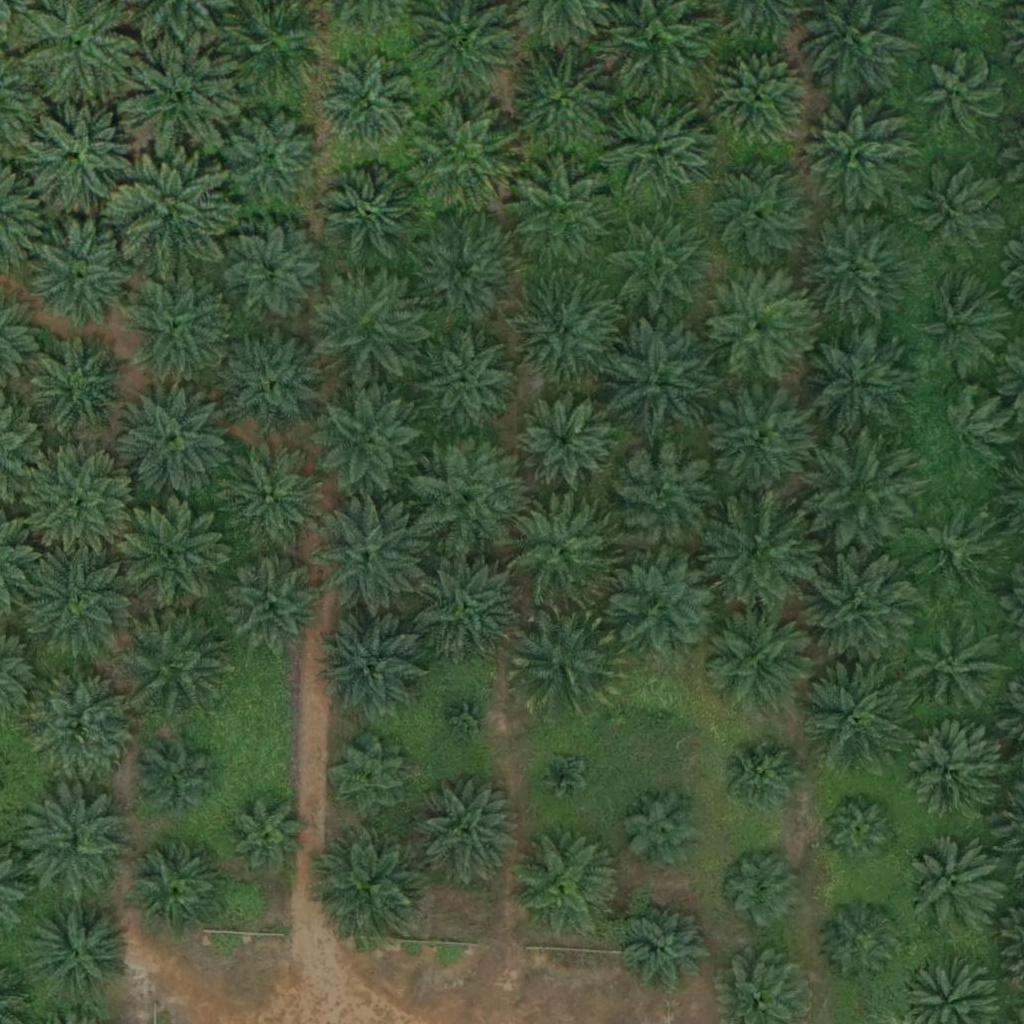Kelapa_Sawit: (507, 157, 620, 271), (799, 652, 912, 766), (702, 383, 815, 497), (699, 493, 812, 607), (600, 212, 713, 326), (602, 322, 715, 436), (510, 277, 623, 391), (24, 666, 137, 780), (121, 41, 234, 154), (115, 156, 228, 269), (506, 44, 619, 157), (799, 104, 912, 217), (704, 603, 817, 716), (606, 443, 719, 556), (314, 387, 427, 500), (314, 500, 427, 613), (317, 615, 430, 728), (212, 436, 325, 549), (28, 447, 141, 560), (22, 542, 135, 655), (18, 790, 131, 903), (22, 894, 135, 1007), (317, 828, 430, 941), (410, 106, 522, 220), (803, 433, 915, 547), (805, 550, 917, 664), (509, 828, 621, 942), (508, 604, 620, 717), (24, 94, 136, 207), (406, 215, 518, 328), (604, 98, 716, 211), (703, 155, 815, 268), (802, 212, 914, 325), (801, 327, 913, 440), (701, 270, 813, 383), (611, 550, 723, 663), (506, 494, 618, 607), (406, 440, 518, 553), (410, 547, 522, 660), (309, 269, 421, 382), (121, 273, 233, 386), (118, 384, 230, 497), (123, 496, 235, 609), (122, 603, 234, 716), (28, 218, 140, 331), (410, 778, 522, 891), (221, 106, 321, 207), (223, 225, 323, 326), (323, 167, 423, 268), (708, 46, 808, 147), (911, 273, 1011, 374), (515, 391, 615, 492), (417, 332, 517, 433), (223, 329, 323, 430), (224, 556, 324, 657), (33, 335, 133, 436), (899, 724, 999, 825), (905, 836, 1005, 937), (318, 54, 418, 154), (903, 500, 1003, 600), (907, 619, 1007, 719), (133, 846, 221, 935), (920, 390, 1008, 478), (626, 901, 714, 989), (914, 50, 1001, 138), (915, 166, 1002, 254), (329, 736, 416, 824), (620, 786, 707, 874), (719, 736, 806, 824), (716, 845, 803, 933), (818, 900, 905, 988), (142, 746, 217, 822), (228, 797, 303, 872), (821, 792, 896, 867), (444, 694, 494, 745), (538, 750, 588, 801), (635, 687, 685, 737)
